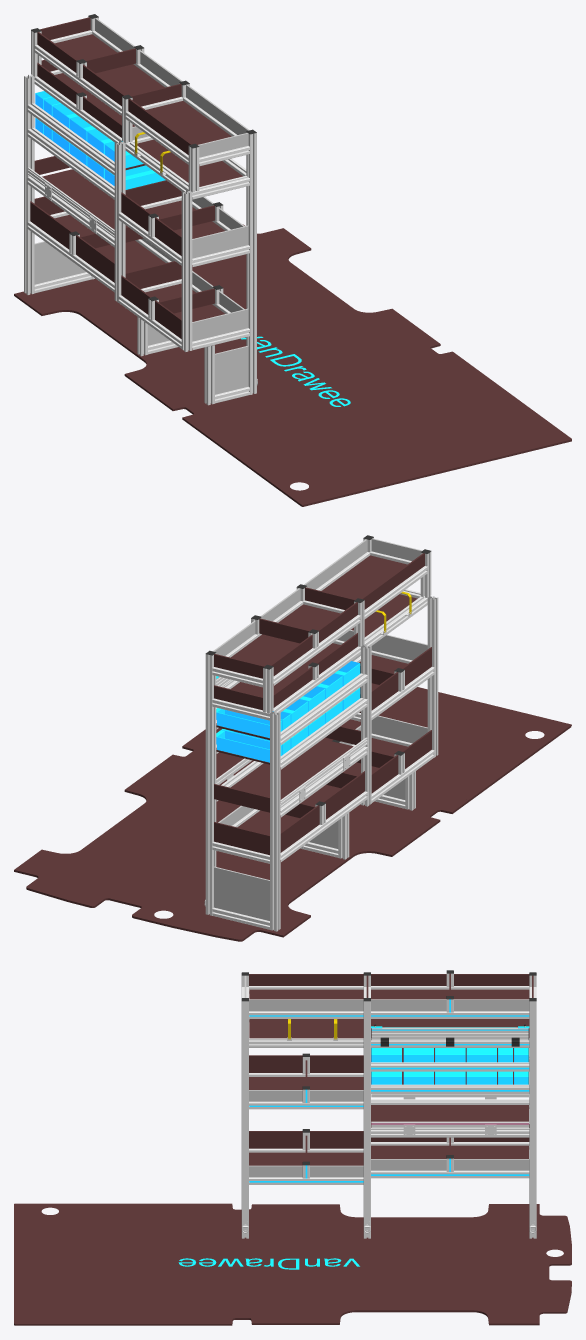
File: vd_export_ford_transit_l3h2_fwd_c02001af.glb
The picture shows the model from 3 angles, top to bottom: view 1: azimuth 30°, elevation 25°; view 2: azimuth 150°, elevation 25°; view 3: azimuth 270°, elevation 25°; orthographic projection. The views are drawn at different scales.
Parts seen in each view (by area): view 1: SomeName_Mesh_0030_2, PR10_1266x306 (×3), 45x45x970_noha (×2), PR10_1266x395 (×3), 45x45x967_Zx2_2 (×3), Multibox_Arc (×2), CUB10_395x260 (×2), 45x45x1600_noha, 45x45x1267_Zx2 (×3), CUB10_395x130 (×2), 45x45x1267_Zx2_2 (×3), 45x45x1330_noha (+15 smaller); view 2: SomeName_Mesh_0030_2, PR10_1266x306 (×3), Multibox_Arc (×2), 45x45x967_Zx2_2 (×3), PR10_1266x395 (×2), 45x45x970_noha (×2), 45x45x1600_noha, 45x45x1330_noha, 45x45x1267_Zx2 (×3), CUB10_395x260, 45x45x1267_Zx2_2 (×3), CUB10_395x130 (×2) (+25 smaller); view 3: SomeName_Mesh_0030_2, PR10_1266x395 (×3), 45x45x1600_noha (×3), PR10_1266x306 (×3), 45x45x1267_Zx2_2 (×5), Multibox_Arc (×2), 45x45x1267_Zx2 (×5), 45x45x967_Zx2 (×3), CUB10_635x89_2 (×3), CUB10_635x89 (×3), PR10_966x395, 80x20x958 (+13 smaller).
Part boxes in pixels (box(x1,y1,x2,y2)): SomeName_Mesh_0030_2: box(14, 224, 571, 506); PR10_1266x306 (×3): box(55, 34, 242, 186); 45x45x970_noha (×2): box(114, 141, 192, 351); PR10_1266x395 (×3): box(42, 169, 224, 321); 45x45x967_Zx2_2 (×3): box(27, 103, 114, 292); Multibox_Arc (×2): box(35, 91, 165, 189); CUB10_395x260 (×2): box(34, 241, 248, 394); 45x45x1600_noha: box(246, 132, 256, 394); 45x45x1267_Zx2 (×3): box(34, 44, 189, 192); CUB10_395x130 (×2): box(192, 225, 248, 343); 45x45x1267_Zx2_2 (×3): box(27, 176, 181, 348); 45x45x1330_noha: box(24, 75, 34, 294); SomeName_Mesh_0030_2: box(14, 687, 571, 941); PR10_1266x306 (×3): box(231, 555, 417, 665); Multibox_Arc (×2): box(216, 661, 360, 762); 45x45x967_Zx2_2 (×3): box(280, 673, 367, 861); PR10_1266x395 (×2): box(230, 738, 407, 799); 45x45x970_noha (×2): box(361, 596, 438, 806); 45x45x1600_noha: box(205, 653, 216, 915); 45x45x1330_noha: box(270, 711, 280, 931); 45x45x1267_Zx2 (×3): box(273, 566, 427, 685); CUB10_395x260: box(214, 866, 269, 920); 45x45x1267_Zx2_2 (×3): box(280, 667, 434, 817); CUB10_395x130 (×2): box(371, 634, 427, 743); SomeName_Mesh_0030_2: box(14, 1203, 571, 1325); PR10_1266x395 (×3): box(249, 1077, 528, 1165); 45x45x1600_noha (×3): box(241, 1001, 536, 1238); PR10_1266x306 (×3): box(249, 989, 529, 1038); 45x45x1267_Zx2_2 (×5): box(249, 1011, 529, 1152); Multibox_Arc (×2): box(371, 1048, 528, 1084); 45x45x1267_Zx2 (×5): box(249, 986, 529, 1184); 45x45x967_Zx2 (×3): box(371, 1062, 529, 1178); CUB10_635x89_2 (×3): box(249, 999, 446, 1177); CUB10_635x89 (×3): box(310, 999, 529, 1177); PR10_966x395: box(371, 1145, 528, 1158); 80x20x958: box(371, 1027, 528, 1040).
Size of the model in its own units: 1738 by 1633 by 3410.
